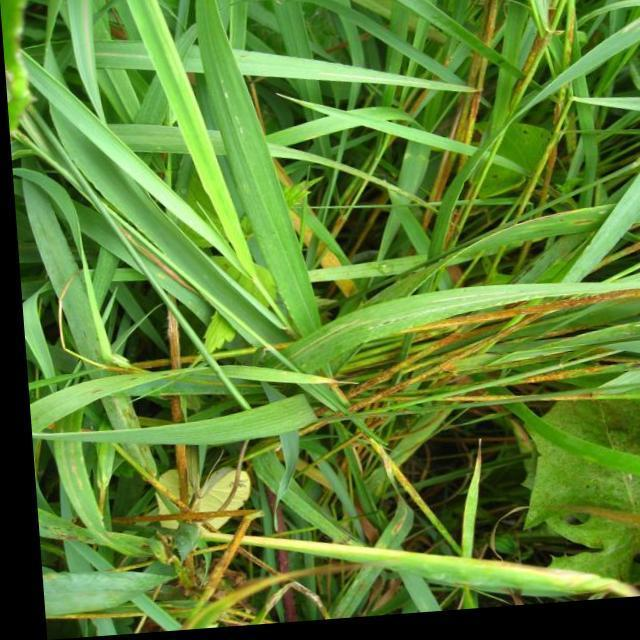Stem Rust: (505, 296, 639, 323), (417, 310, 522, 343)
